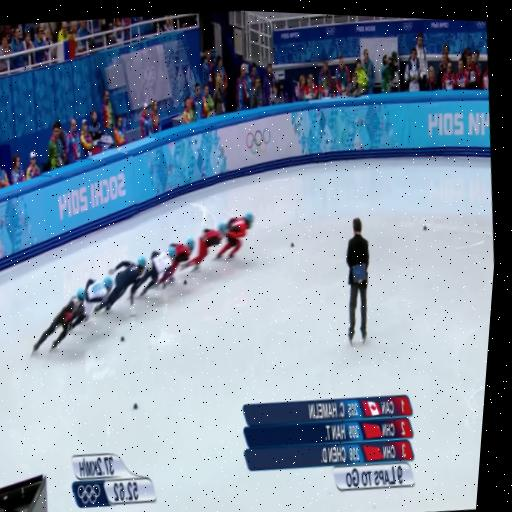Skater: (32, 277, 112, 352), (32, 288, 85, 352), (94, 257, 145, 316), (184, 223, 225, 270), (139, 246, 176, 296), (159, 238, 194, 287), (216, 213, 253, 259)
